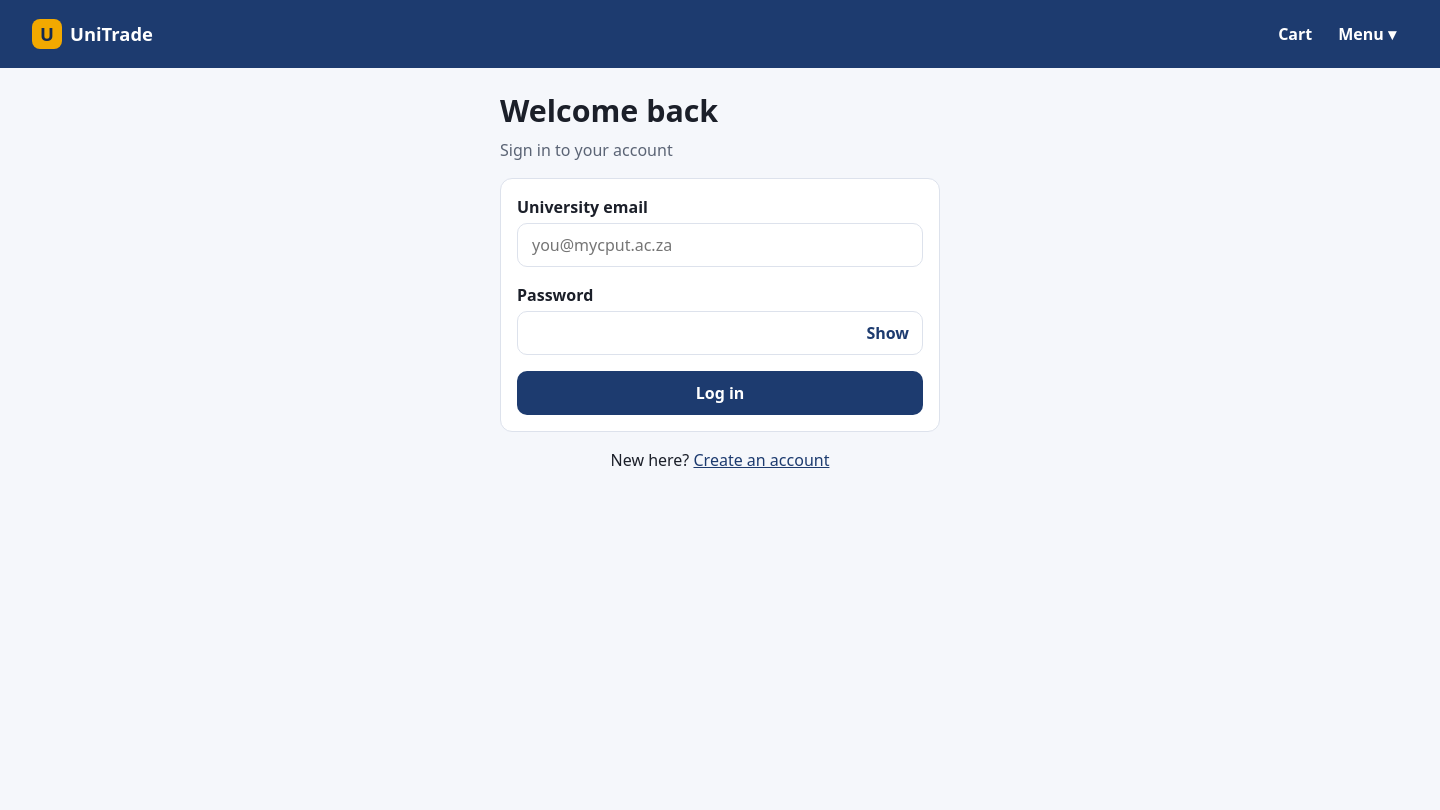
it: FR1 - authentication screens › fr1_05 login shows an error instead of a blank screen when the server is unreachable
Type "jane@mycput.ac.za" into the field labelled "University email" at (720, 245), box [517,223,923,267]
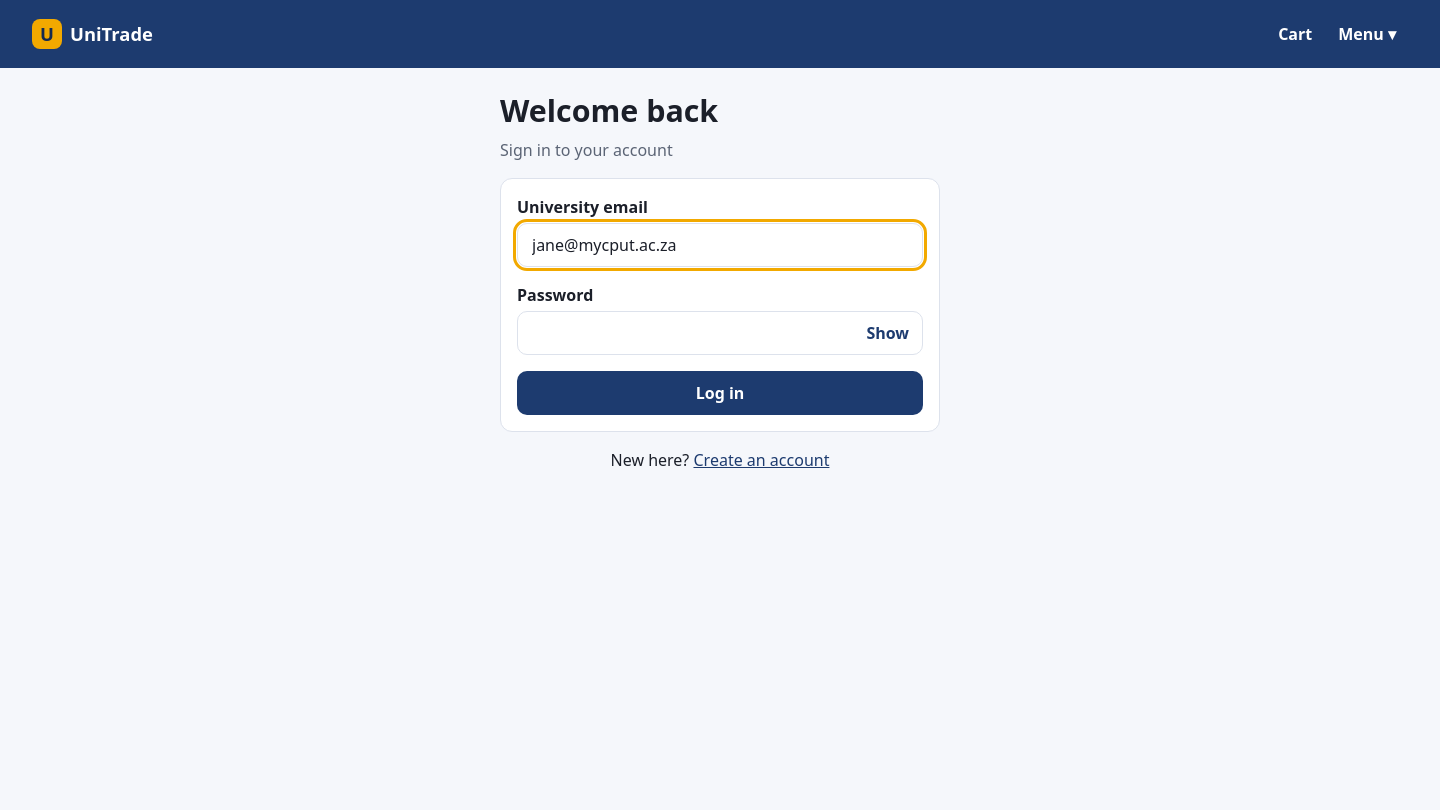
Type "Password123!" into the password field labelled "Password" at (720, 333), box [517,311,923,355]
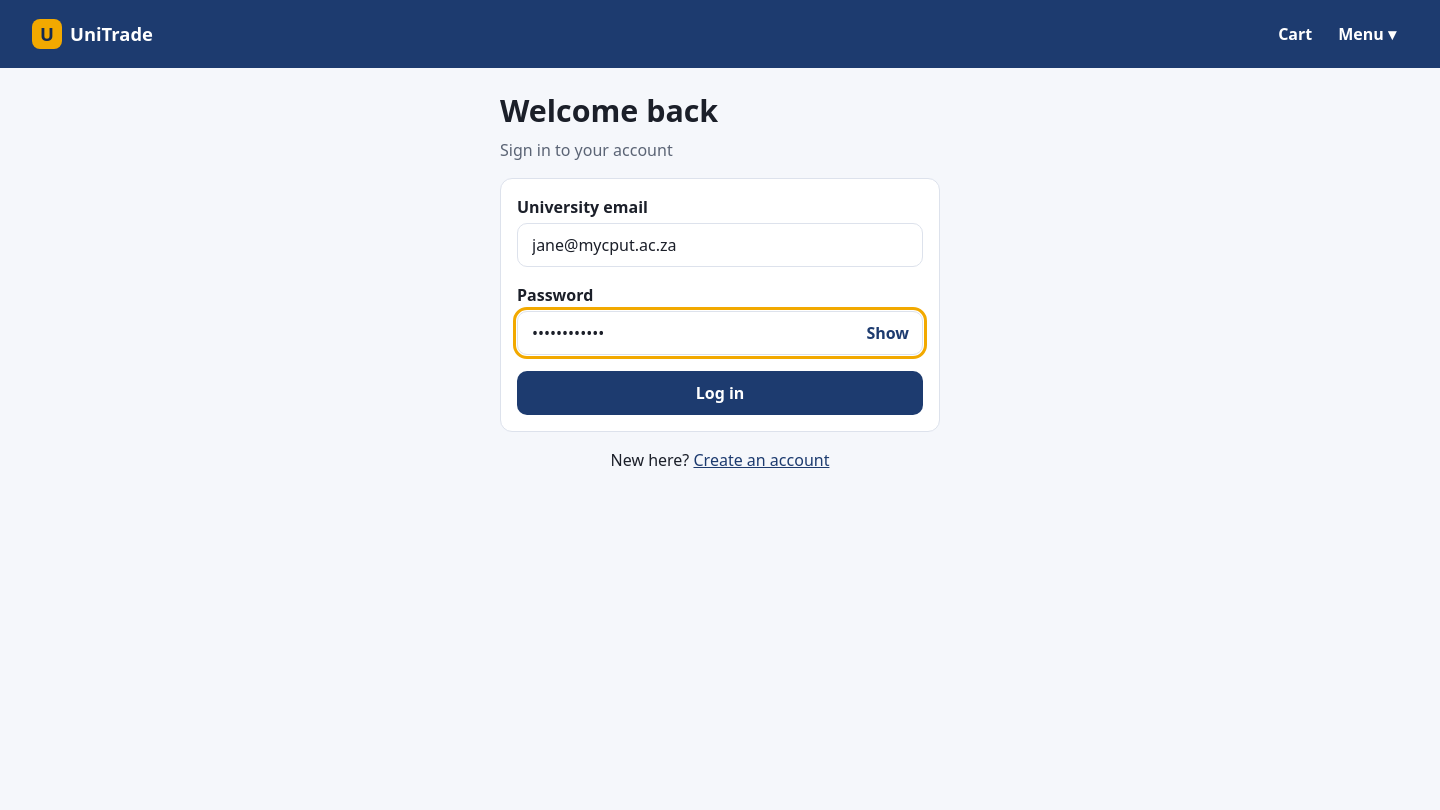
Click the button "Log in" at (720, 393), box [517,371,923,415]
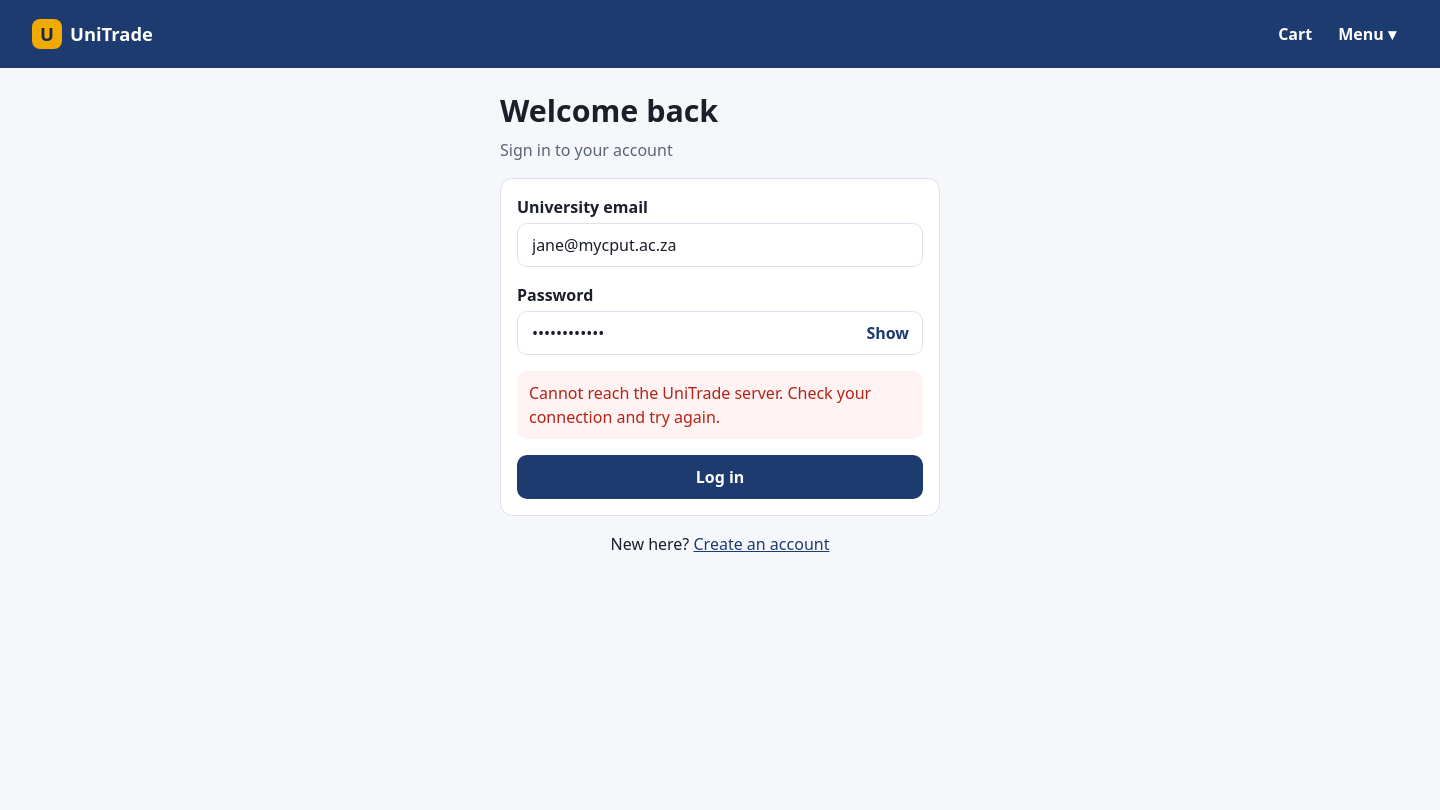
expect the message shows "Cannot reach the UniTrade server": met, box [529,382,871,428]
